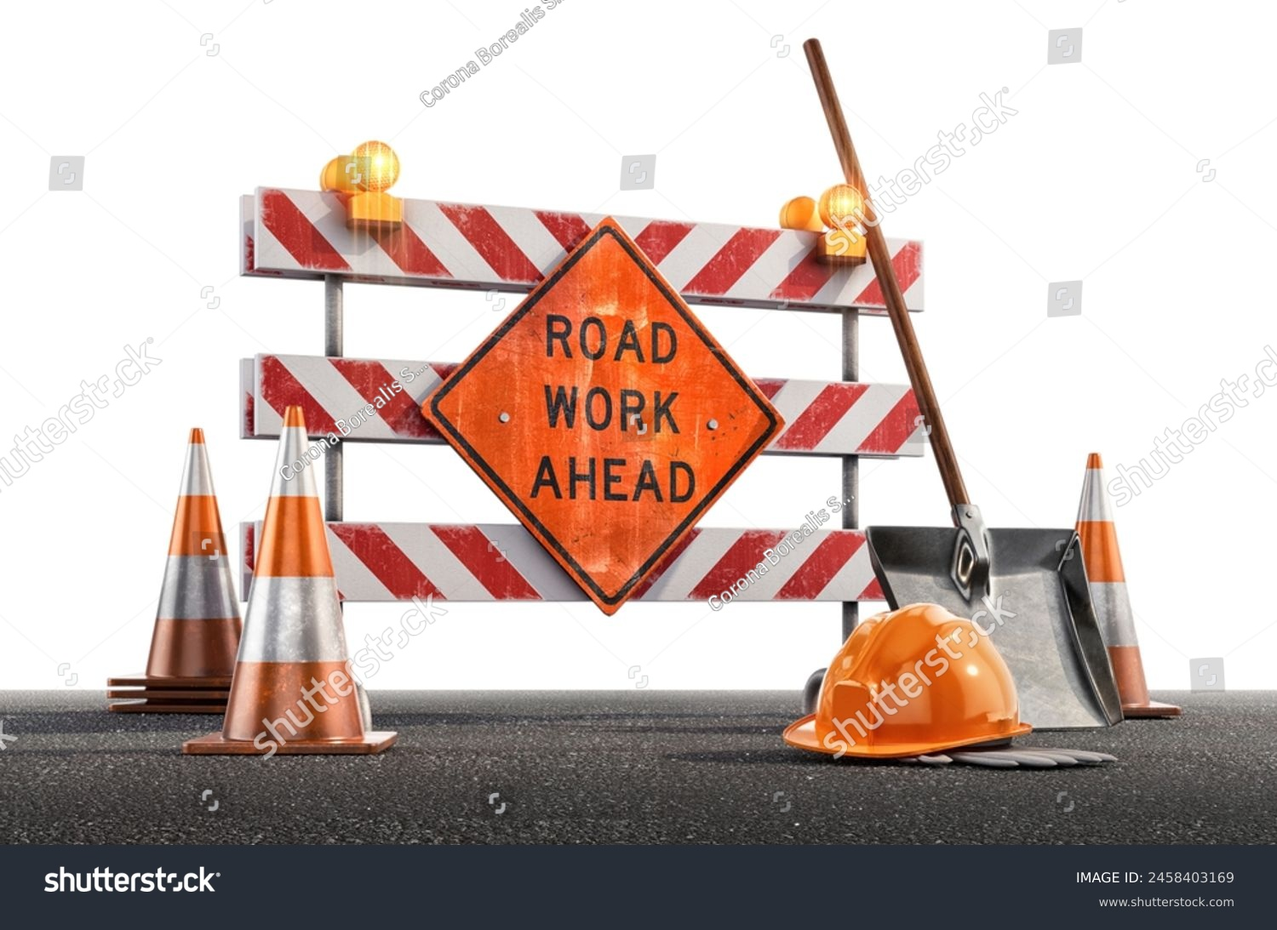Road_cone: (186, 391, 391, 750), (113, 414, 261, 717)
Road_workahead: (431, 219, 793, 617)
